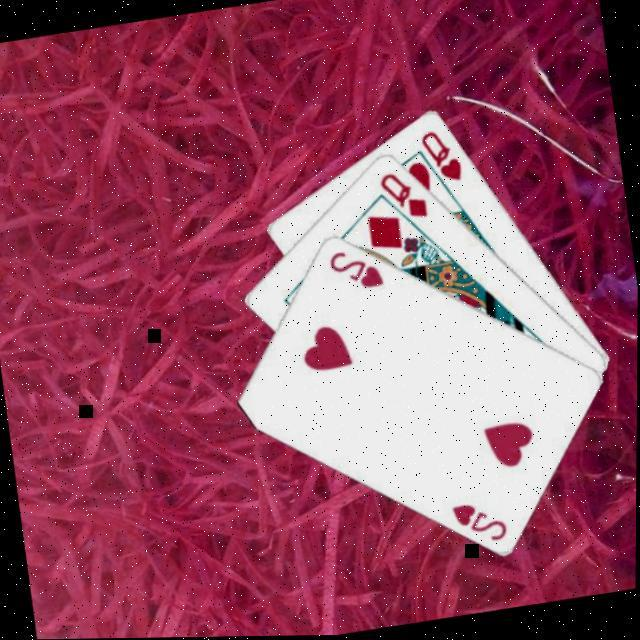2H: (448, 493, 512, 550), (323, 240, 387, 296)
QD: (375, 164, 431, 226)
QH: (416, 122, 466, 188)
